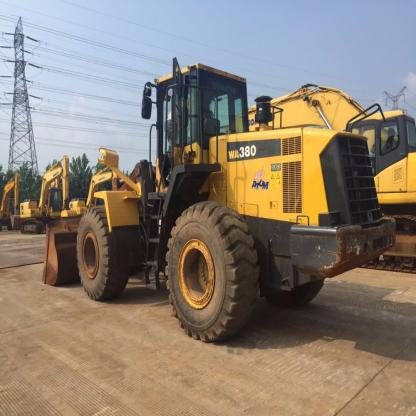bull_dozer/loader/grader: (32, 51, 400, 352)
